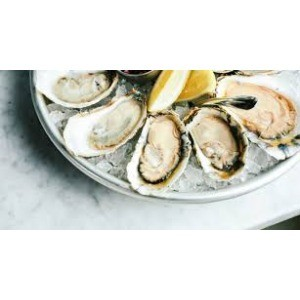oyster_brain food: (197, 85, 294, 179), (64, 93, 177, 172)
